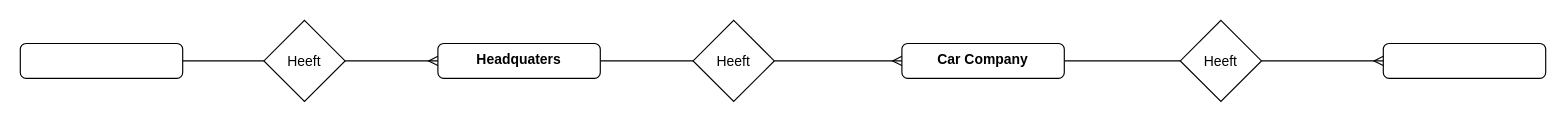
The diagram is 1566 pixels wide and 122 high, and some of its shapes have lost their labels. Each missing label, with the box of its shape:
Car: (1382, 42, 1546, 78)
Country: (19, 42, 183, 78)
